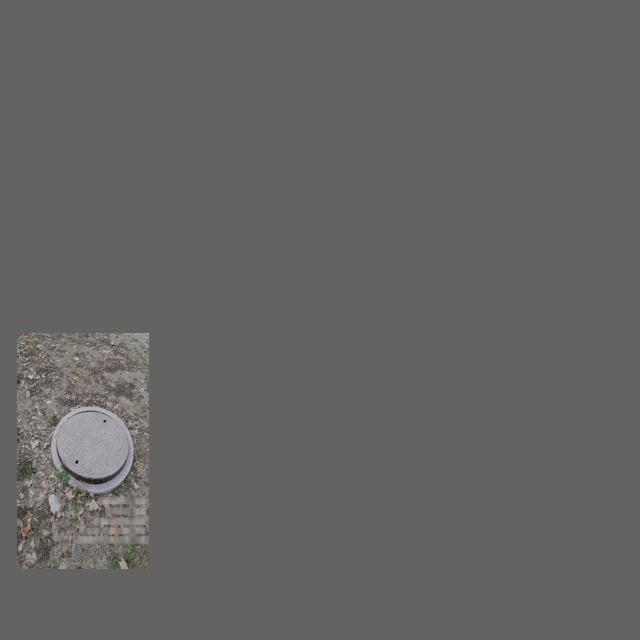uncovered: (51, 406, 134, 493)
